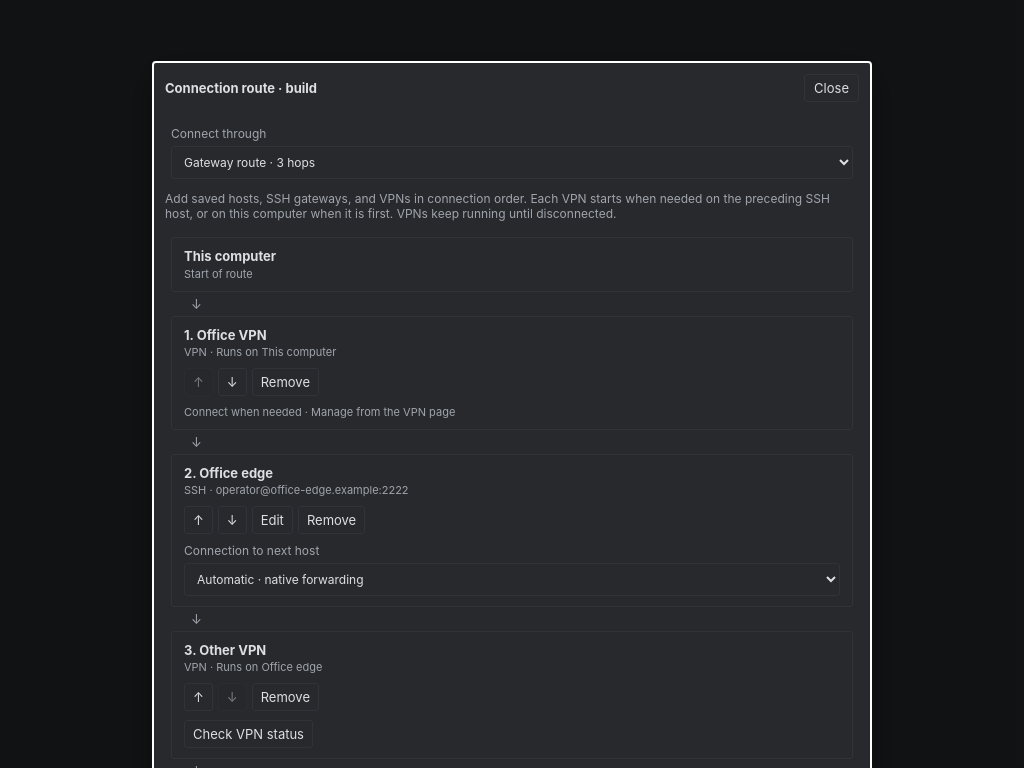
Test: GatewayRouteDialog › rejects consecutive VPN steps created by rearranging a route
Click the button named "Move Other VPN up" at (198, 697), box 184,683 -> 213,711
(page scrolled)
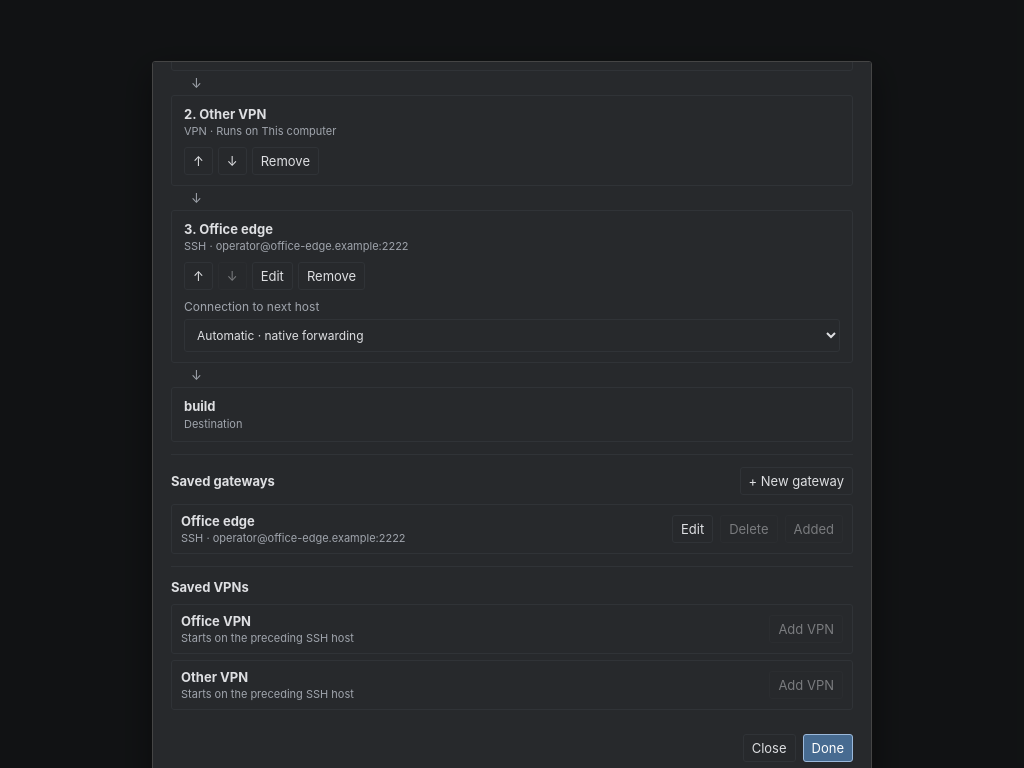
Click the button "Done" at (828, 748), box 803,734 -> 853,762
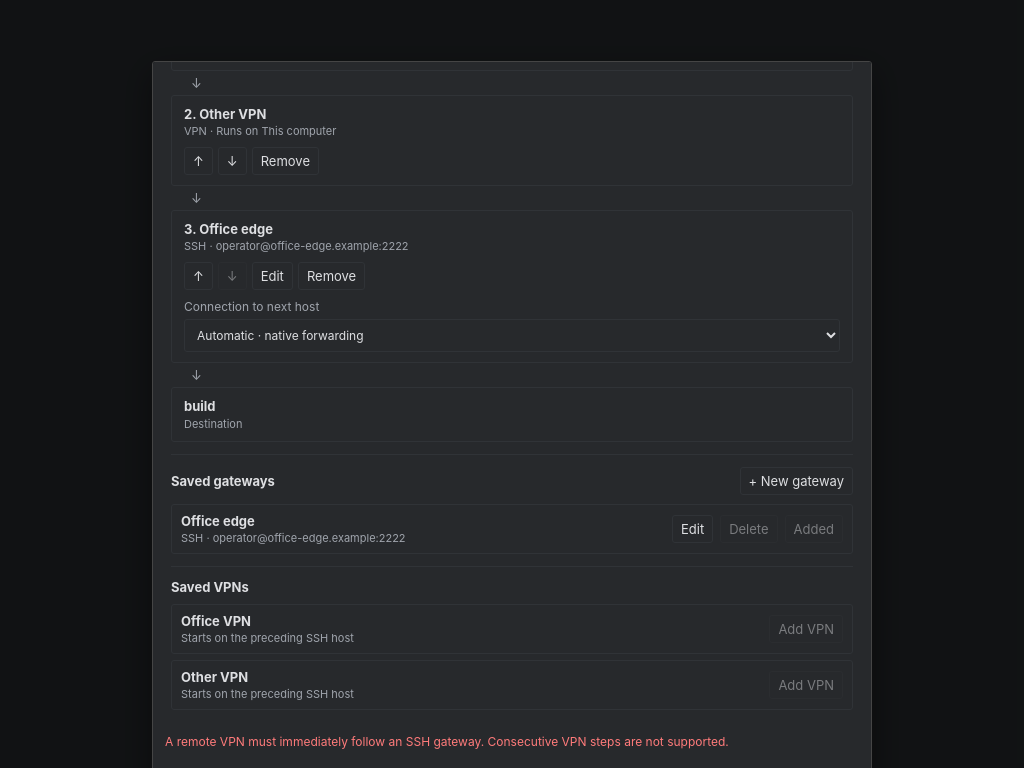
expect the message shows "Consecutive VPN steps are not supported": met, box 165,734 -> 729,749
